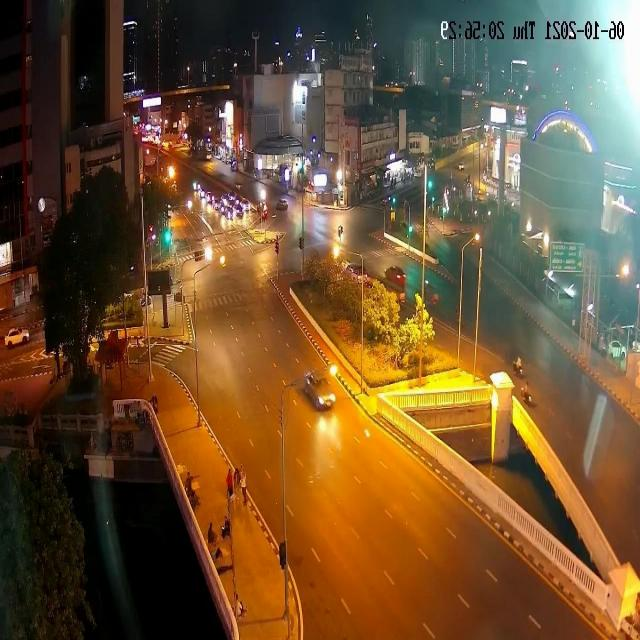Car: (304, 372, 337, 409), (346, 263, 375, 291), (503, 82, 532, 105), (4, 327, 30, 349), (385, 265, 406, 287), (423, 282, 440, 306), (608, 339, 624, 362), (343, 261, 363, 278), (228, 200, 244, 218), (140, 290, 154, 308), (238, 197, 251, 212), (276, 198, 288, 211), (206, 190, 214, 205), (224, 207, 233, 220), (166, 204, 174, 218), (225, 153, 234, 165), (230, 159, 237, 171), (133, 124, 139, 136), (199, 189, 206, 199), (235, 182, 242, 192), (195, 182, 201, 193), (458, 162, 464, 171), (474, 99, 478, 109), (193, 182, 197, 190)
